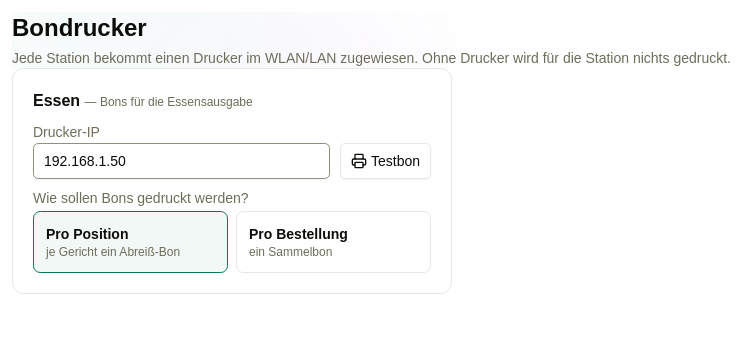
Test case: DruckstationConfigPage — Stationskarten › speichert eine unveränderte IP nicht und zeigt bei ungültiger IP einen Fehler ohne Inline-Bestätigung
Replace the text in the field labelled "Drucker-IP" with "999.1.1.1": (182, 161) x1=33 y1=143 x2=330 y2=179
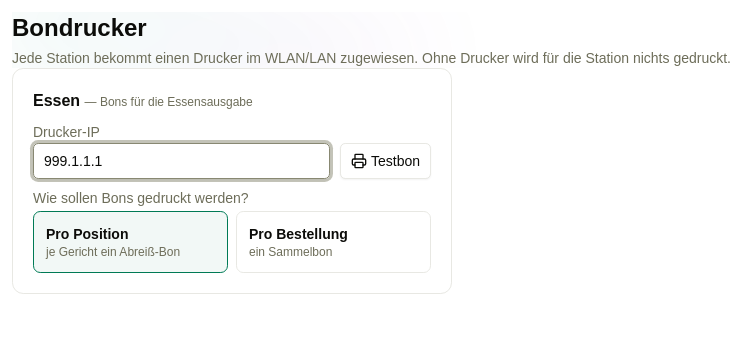
Press Tab
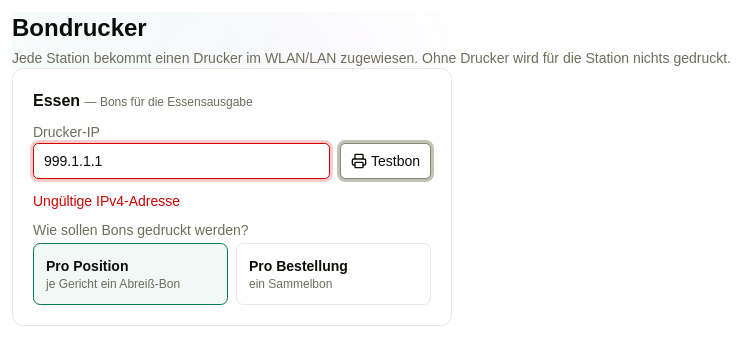
Expected: the text "Ungültige IPv4-Adresse" is shown, x1=33 y1=193 x2=180 y2=209
